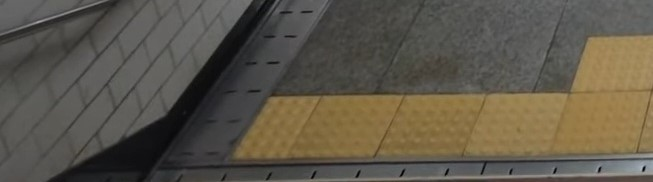warningBlock: (563, 93, 647, 152), (478, 96, 559, 151), (307, 95, 386, 148), (390, 93, 473, 142), (588, 38, 653, 86), (266, 93, 305, 152)
